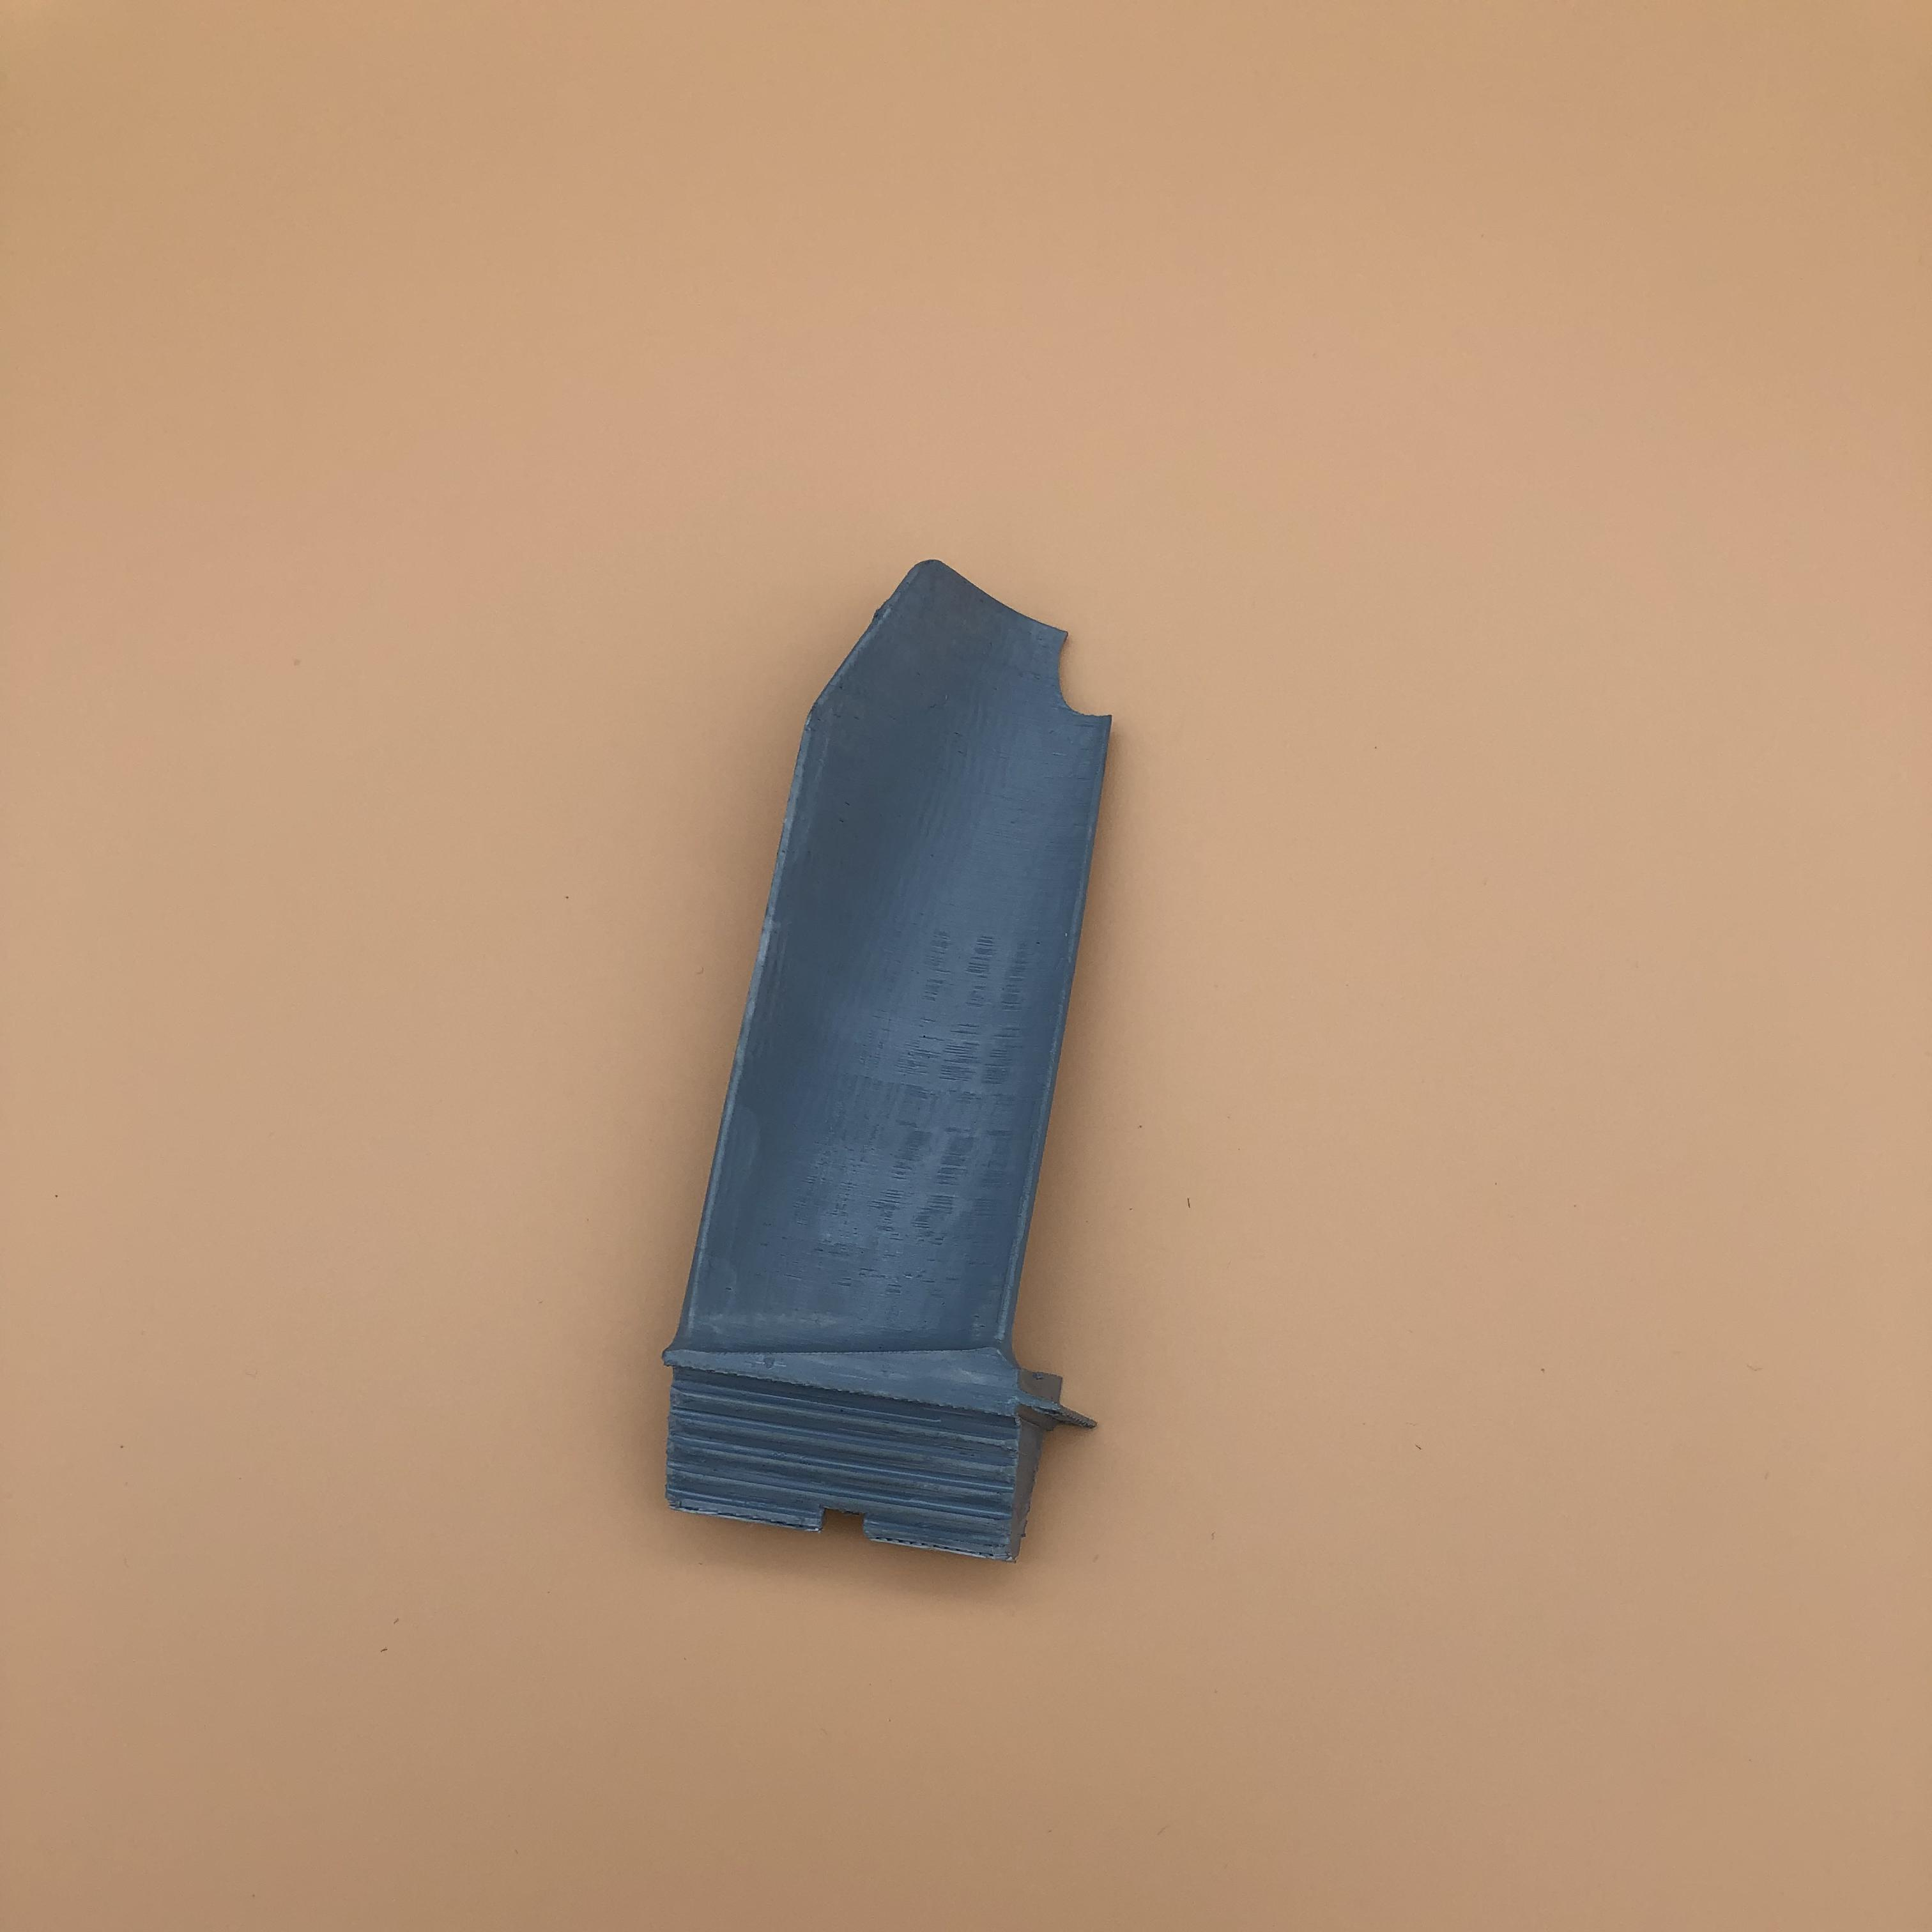fracture: (1037, 621, 1131, 734)
